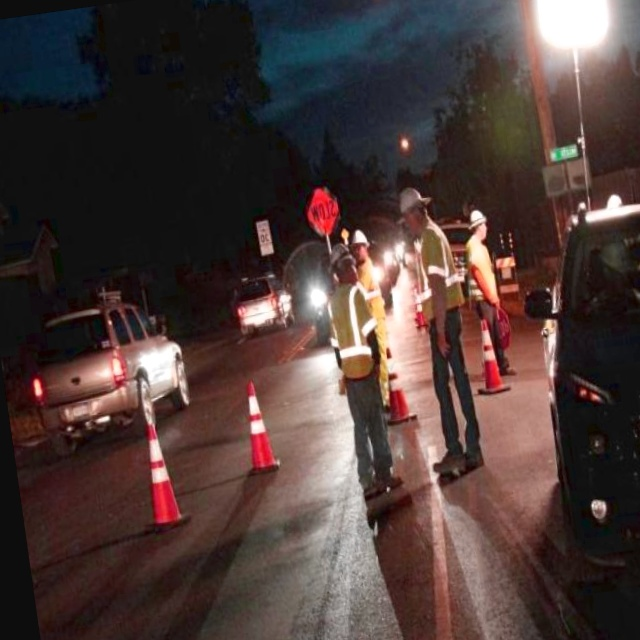Con_Casco: (393, 186, 435, 234)
Con_Chaleco: (322, 284, 378, 380), (410, 227, 464, 322)
